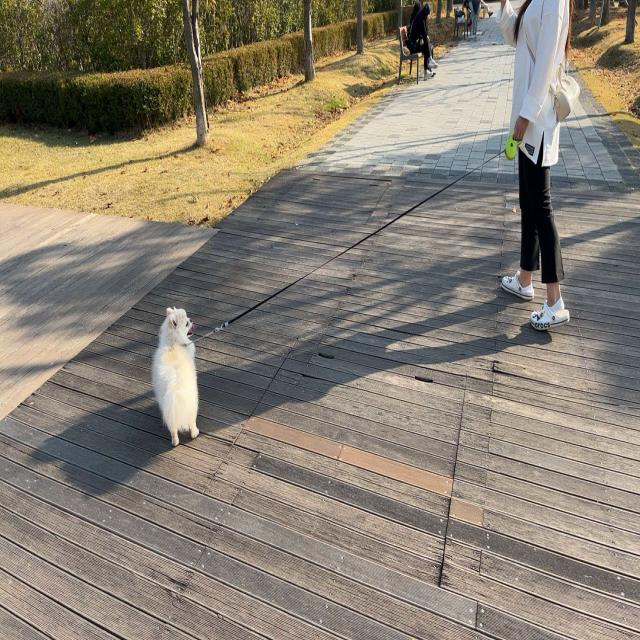Leashed_Dog: (152, 124, 531, 448)
